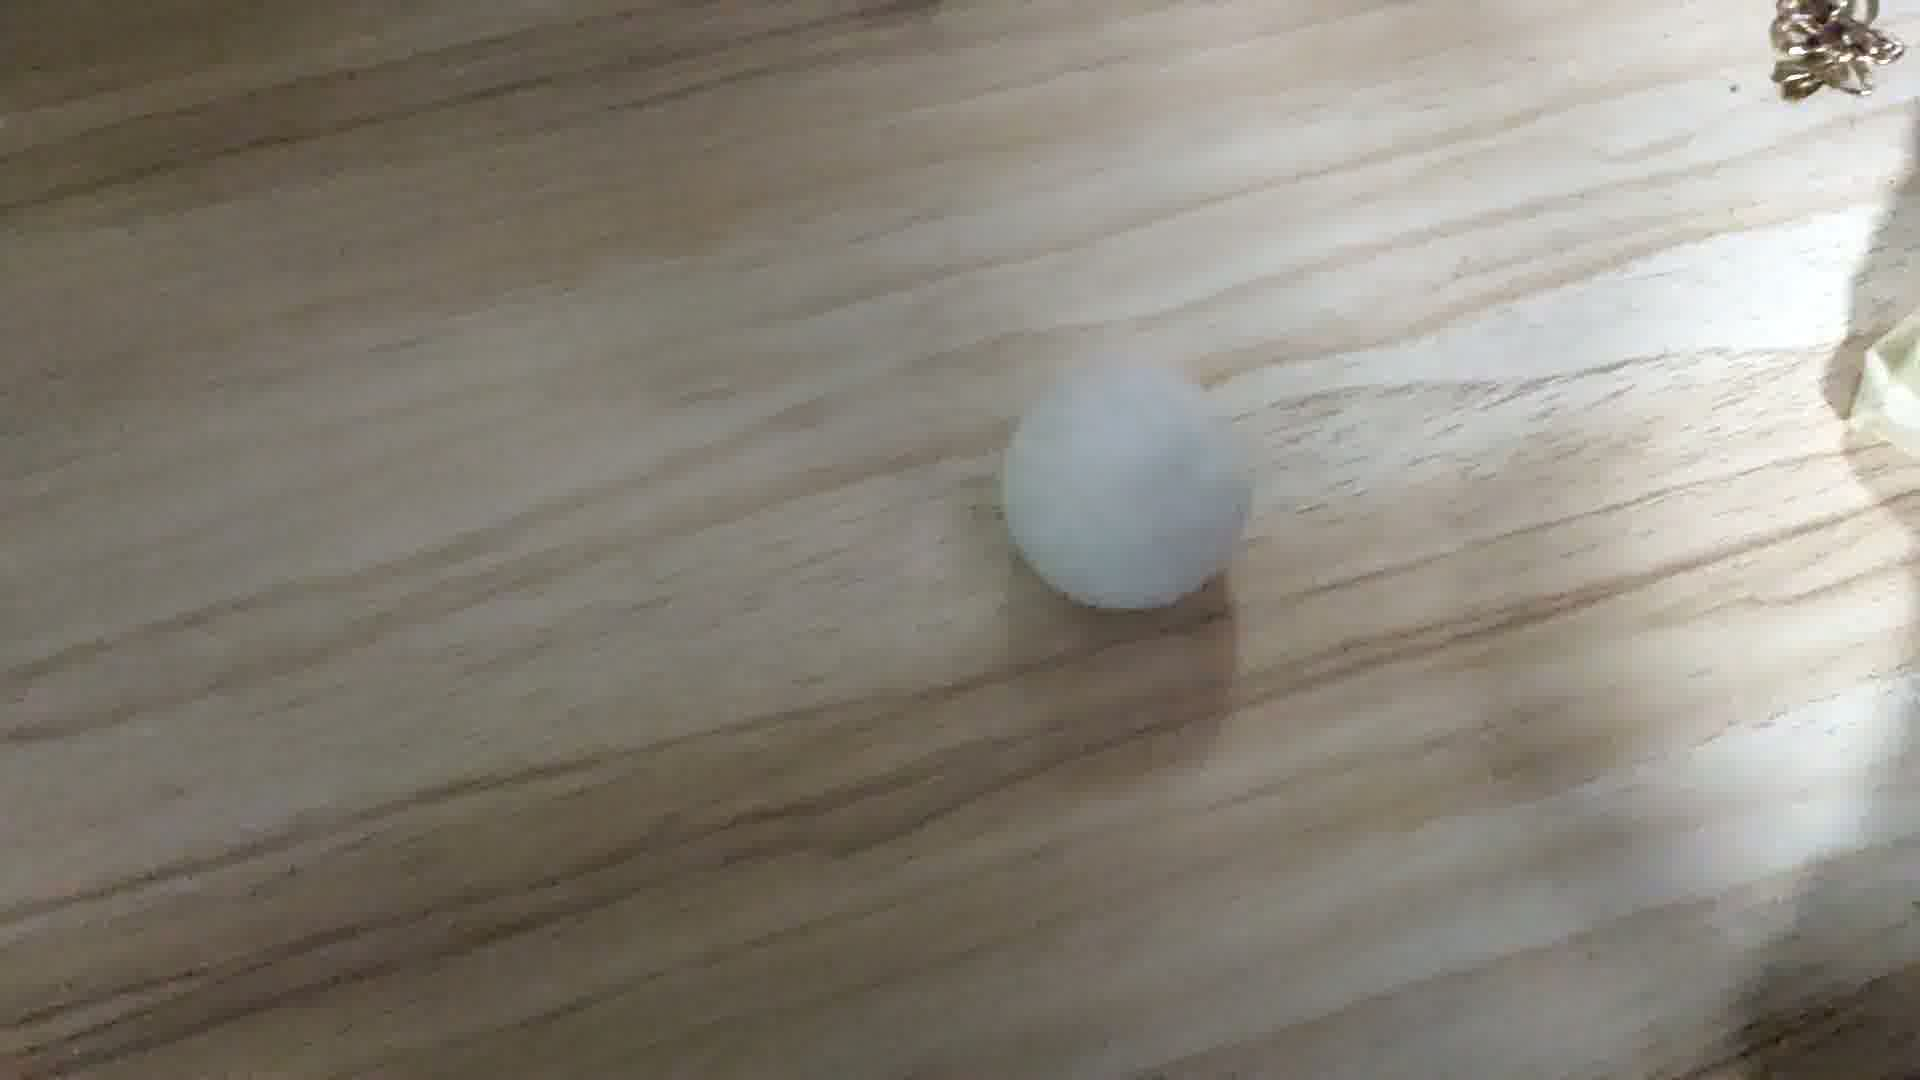Ball: (1000, 357, 1249, 616)
